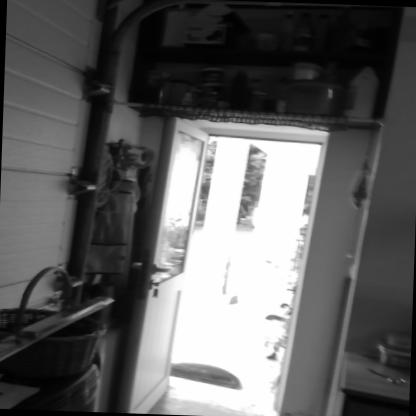open: (134, 109, 386, 416)
